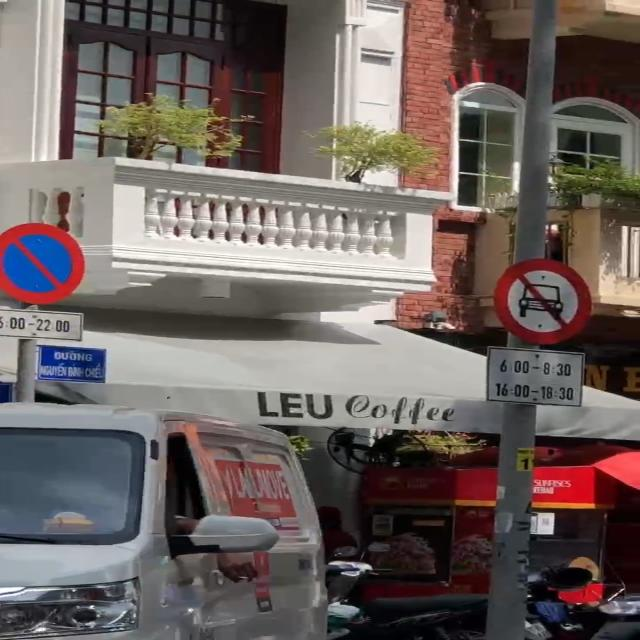Bien bao cam do xe: (0, 215, 92, 307)
Bien bao cam xe oto: (490, 255, 604, 348)
